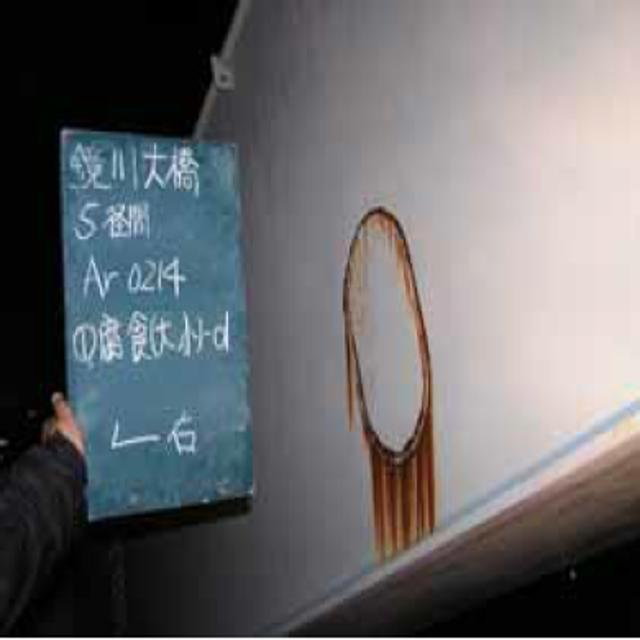corrosion: (327, 203, 466, 586)
